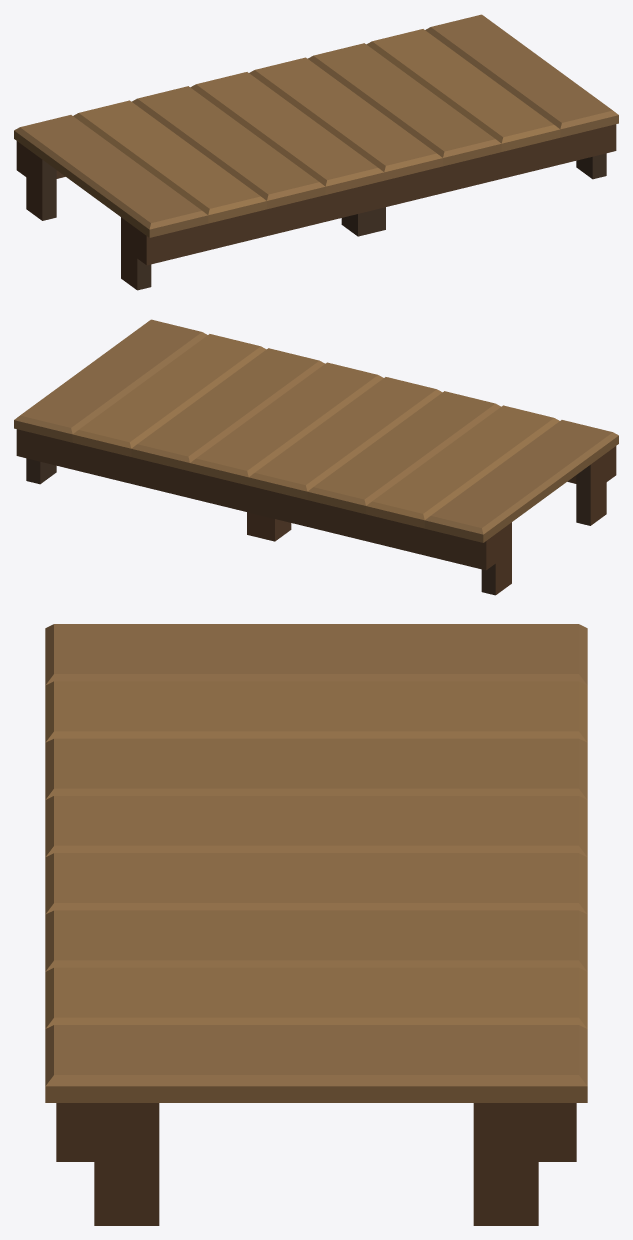
Rendered from boardwalk-run-461f03.glb.
3 renders of one model, top to bottom at view 1: azimuth 30°, elevation 25°; view 2: azimuth 150°, elevation 25°; view 3: azimuth 270°, elevation 25°, orthographic. The views are drawn at different scales.
Parts seen in each view (by area): view 1: boardwalk; view 2: boardwalk; view 3: boardwalk.
Part boxes in pixels (x1,y1,x2,y2): boardwalk: (14,14,618,290); boardwalk: (14,319,618,595); boardwalk: (45,624,587,1225).
Size of the model in its own units: 2 by 0.3 by 1.
